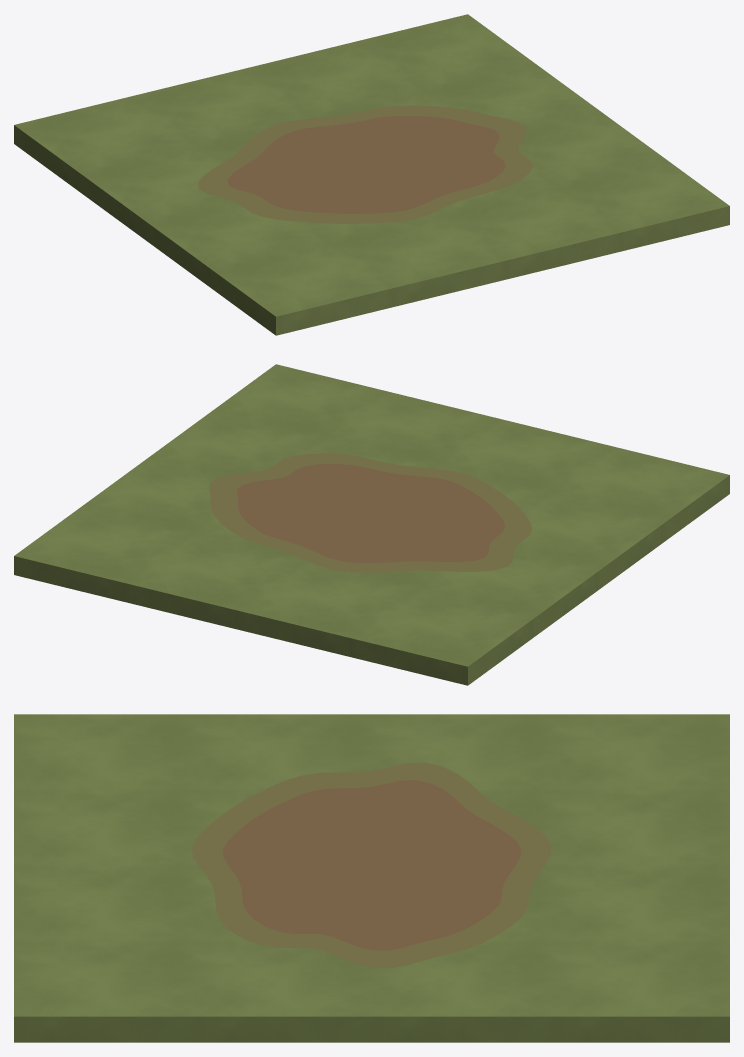
Rendered from terrain-loam-4m.glb.
3 views of the same model, one above another, from view 1: azimuth 30°, elevation 25°; view 2: azimuth 150°, elevation 25°; view 3: azimuth 270°, elevation 25° (orthographic). The views are drawn at different scales.
Visible parts, largest first — view 1: terrain-loam-4m / N13 / meadow soil, terrain-loam-4m / N11 / warm garden loam, terrain-loam-4m / N20 / loam transition; view 2: terrain-loam-4m / N13 / meadow soil, terrain-loam-4m / N11 / warm garden loam, terrain-loam-4m / N20 / loam transition; view 3: terrain-loam-4m / N13 / meadow soil, terrain-loam-4m / N11 / warm garden loam, terrain-loam-4m / N20 / loam transition.
Part boxes in pixels (x1,y1,x2,y2): terrain-loam-4m / N13 / meadow soil: (14, 14, 729, 335); terrain-loam-4m / N11 / warm garden loam: (227, 116, 505, 213); terrain-loam-4m / N20 / loam transition: (198, 105, 532, 223); terrain-loam-4m / N13 / meadow soil: (14, 364, 729, 685); terrain-loam-4m / N11 / warm garden loam: (237, 464, 504, 562); terrain-loam-4m / N20 / loam transition: (209, 453, 532, 572); terrain-loam-4m / N13 / meadow soil: (14, 714, 729, 1042); terrain-loam-4m / N11 / warm garden loam: (222, 780, 521, 950); terrain-loam-4m / N20 / loam transition: (192, 762, 551, 968).
Bounding box in the file's own units: 4 × 0.1615 × 4.
3 materials, 1 textured.
